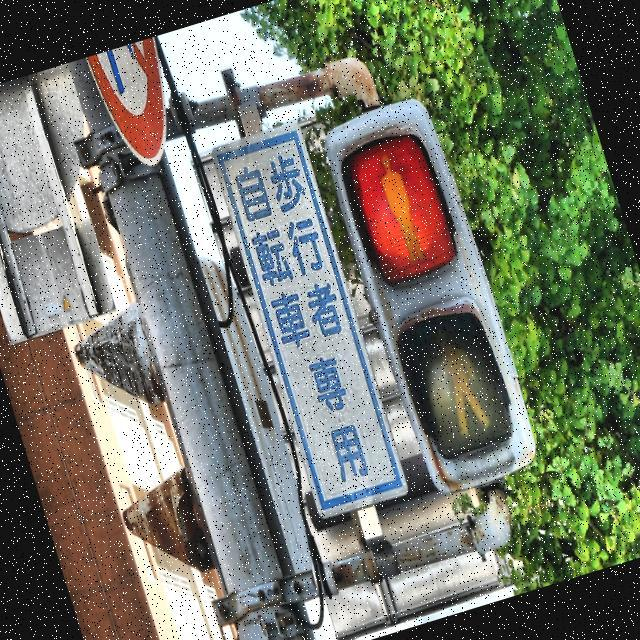red_light: (369, 147, 431, 270)
